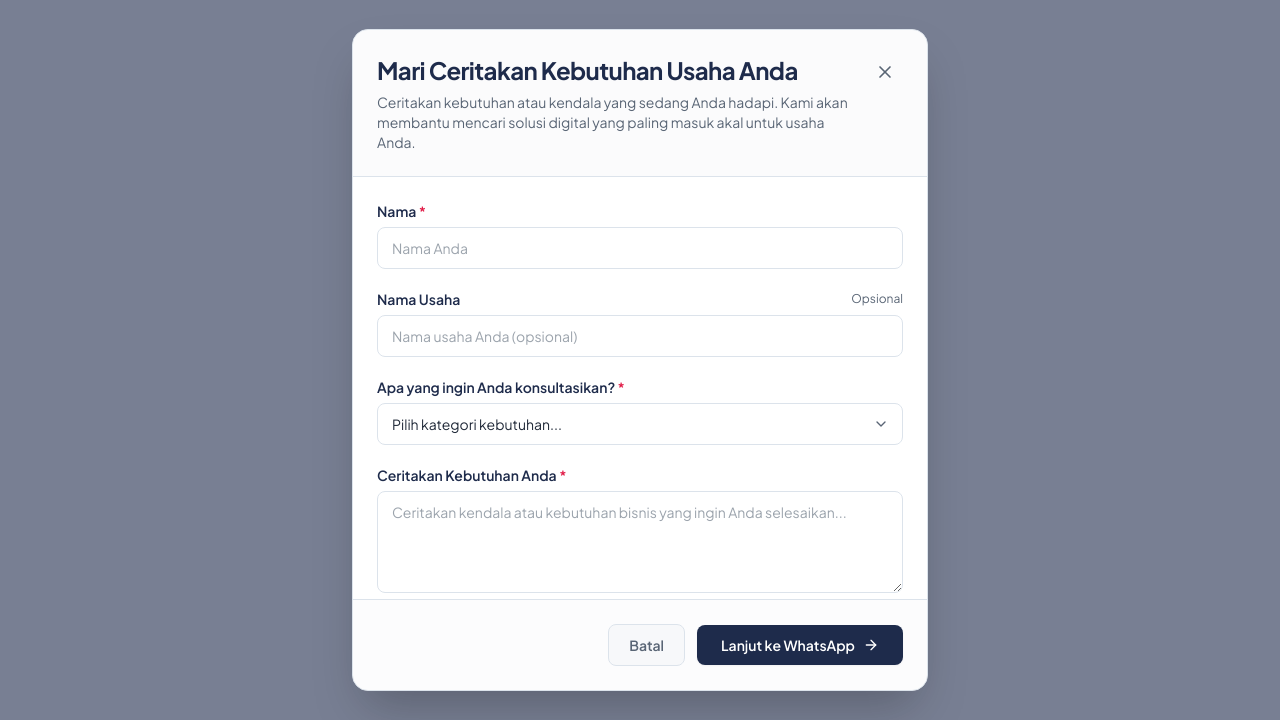
ConsultationModal Component › validates required fields on submit and shows clear error messages
This screenshot has width=1280, height=720.
Click the button "Lanjut ke WhatsApp".
click(800, 645)  # box [697,625,903,665]
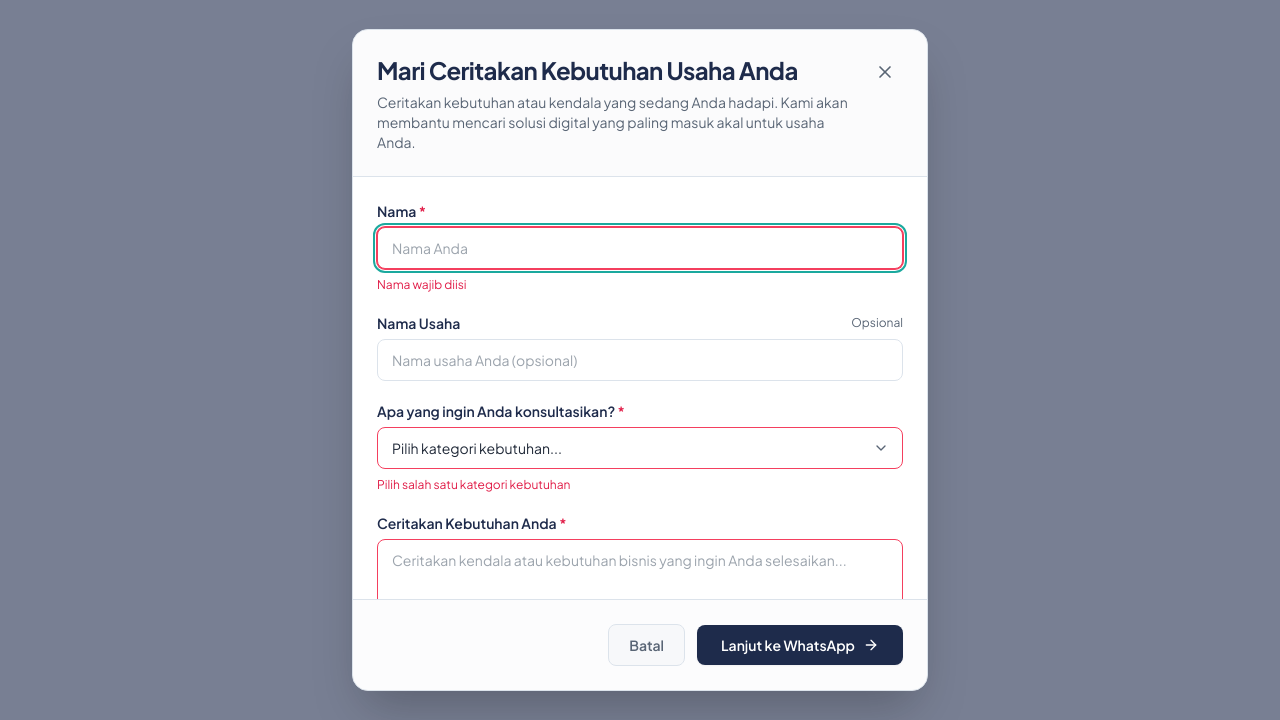
Now the text "Nama wajib diisi" is shown, box [377,277,467,292]
Now the text "Pilih salah satu kategori kebutuhan" is shown, box [377,477,570,492]
